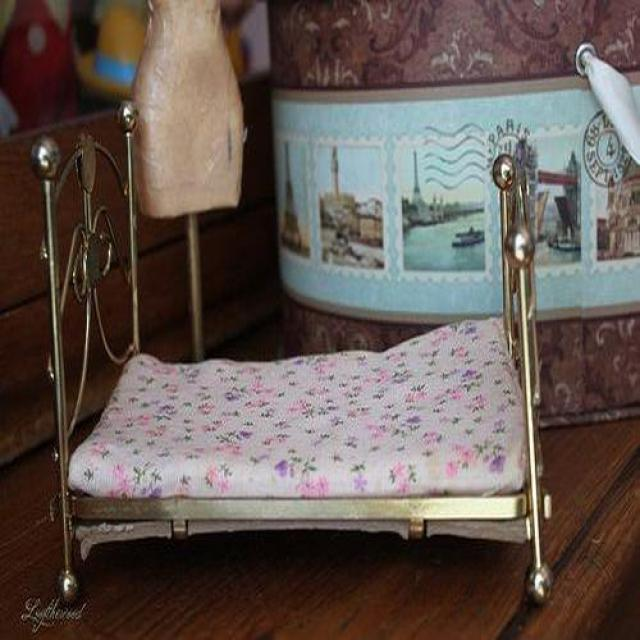bed: (28, 104, 550, 608)
